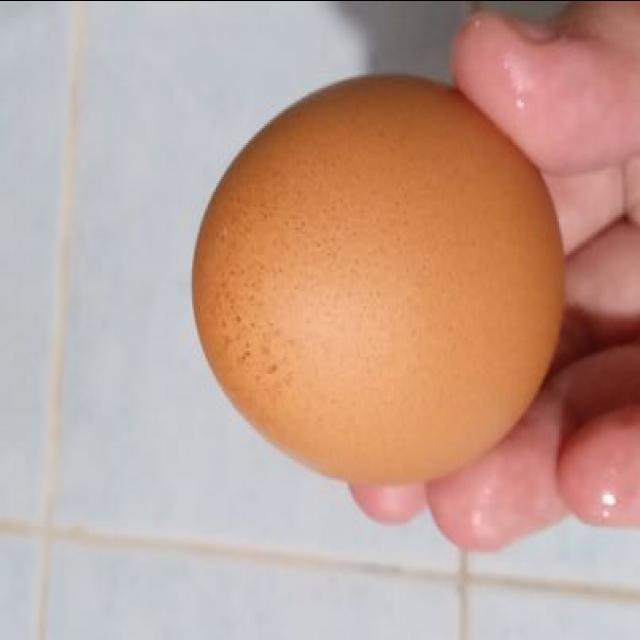egg shell: (191, 76, 568, 488)
